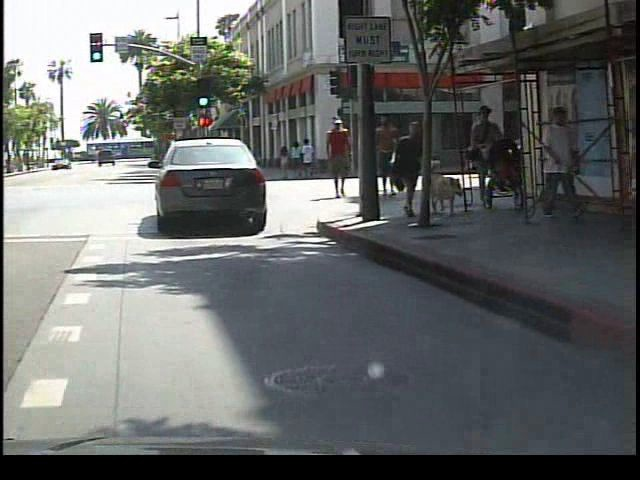person: (371, 108, 406, 204), (326, 114, 363, 203)
